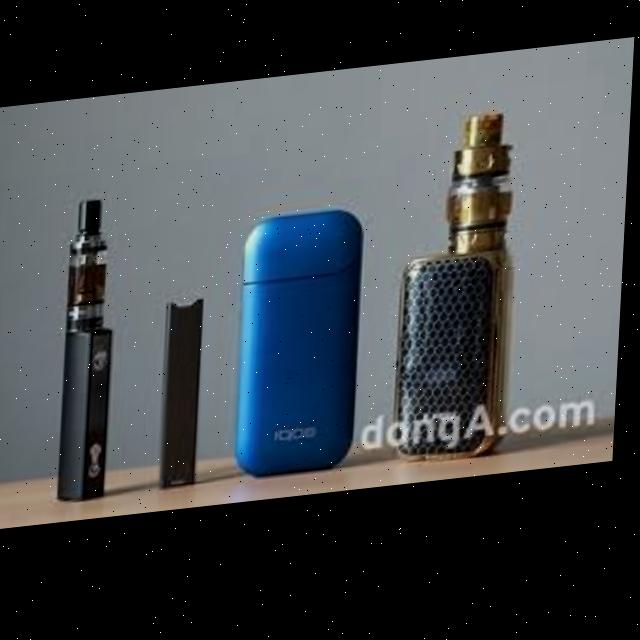vape: (392, 113, 531, 474), (241, 214, 366, 486), (61, 193, 126, 504), (164, 302, 208, 493)
